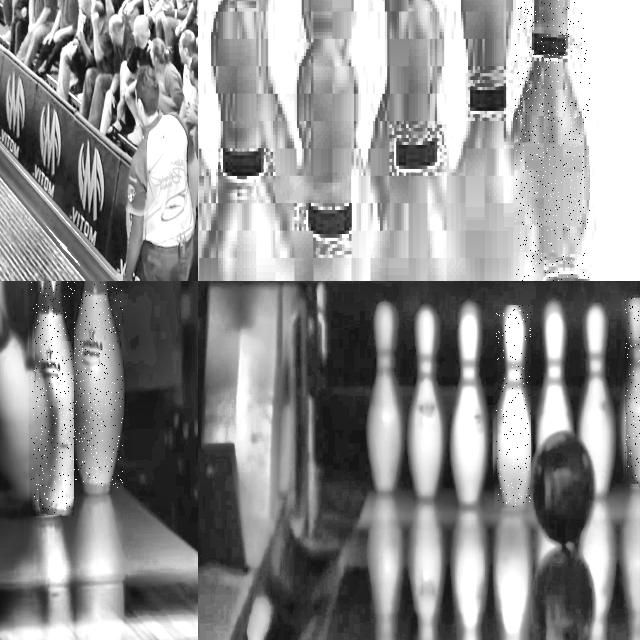bowling-ball: (531, 432, 595, 546)
bowling-pins: (200, 0, 291, 281), (515, 0, 589, 281), (449, 0, 523, 281), (294, 39, 356, 281), (72, 281, 123, 489), (31, 281, 73, 516), (385, 0, 442, 166), (450, 302, 486, 506), (496, 306, 531, 508), (579, 304, 615, 497), (387, 166, 447, 281), (408, 306, 443, 499), (368, 302, 401, 492), (537, 301, 572, 448), (625, 299, 640, 485)
